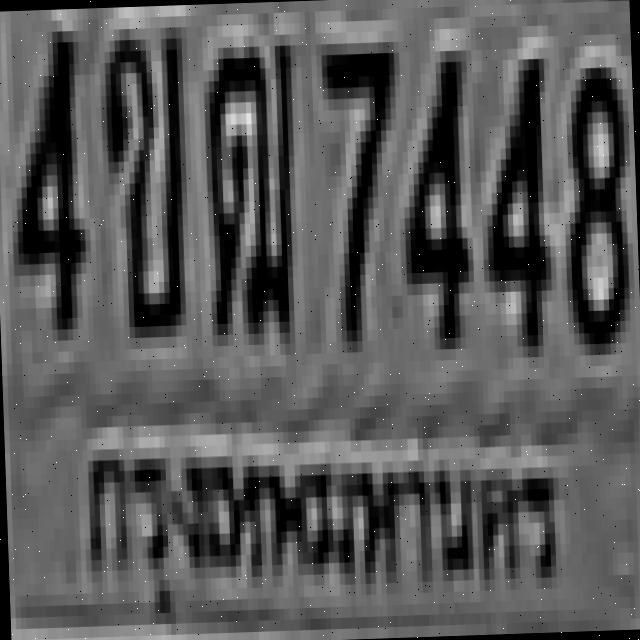11KhorKhai: (98, 15, 186, 328)
27ThorPhuThao: (196, 34, 300, 335)
4: (5, 19, 83, 330), (476, 47, 548, 347), (393, 39, 465, 339)
7: (316, 31, 398, 342)
8: (556, 56, 628, 344)
Bangkok: (62, 397, 578, 626)
